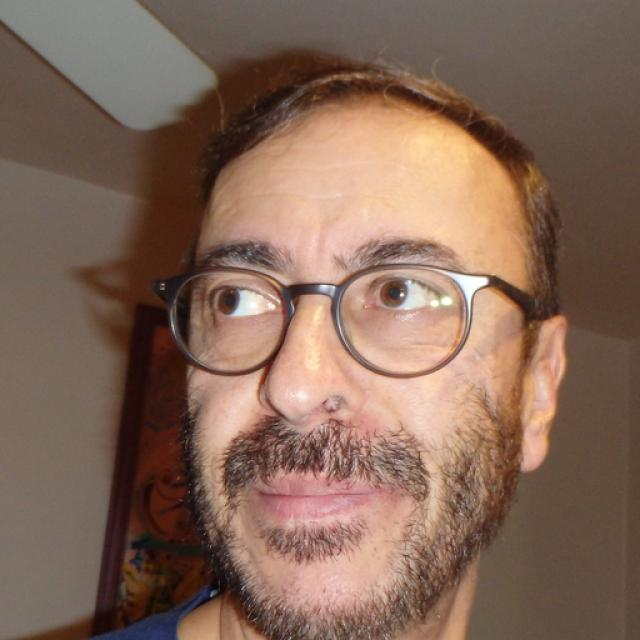neutral: (182, 100, 522, 638)
